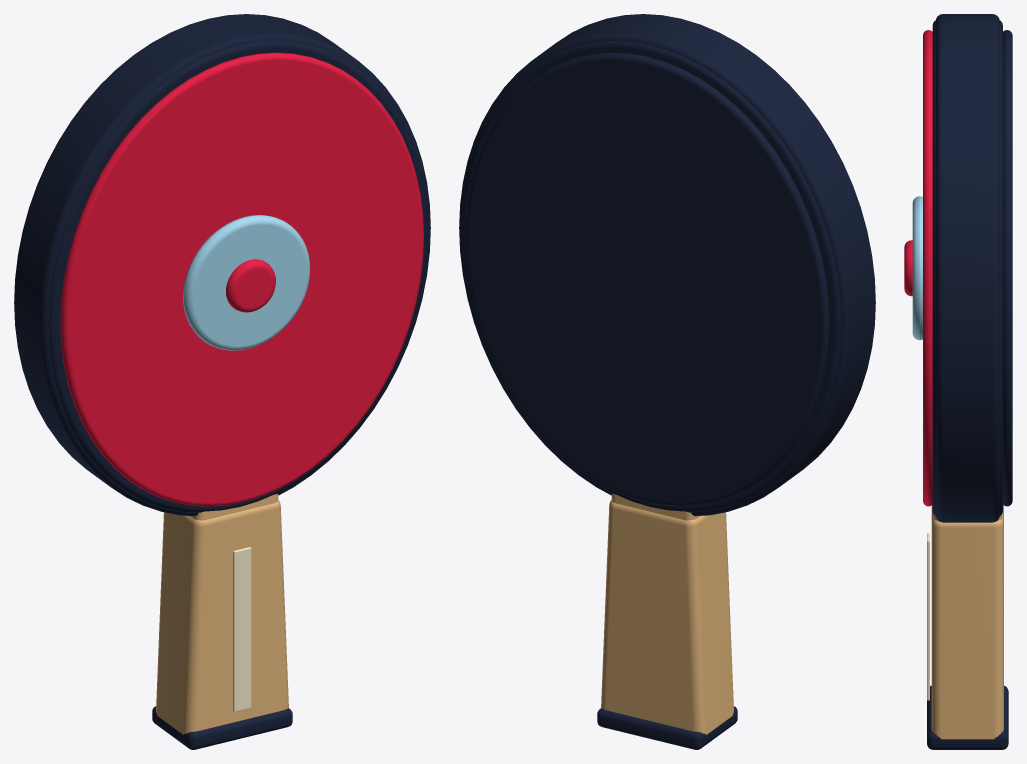
The model's file is Homing.fbx.
The picture shows the model from 3 angles, left to right: view 1: azimuth 30°, elevation 25°; view 2: azimuth 150°, elevation 25°; view 3: azimuth 270°, elevation 25°; orthographic projection.
Parts seen in each view (by area): view 1: FrontRubber, OuterRim, WoodHandle, TargetCircle, RimLip, HandleInlay, HandleButt, TargetCore; view 2: BackRubber, WoodHandle, OuterRim, RimLip, HandleButt; view 3: OuterRim, WoodHandle, BackRubber, FrontRubber, RimLip, TargetCircle, HandleButt, HandleInlay, TargetCore.
Boxes of the visible parts, left/top/right/bottom form: FrontRubber: left=60, top=52, right=423, bottom=506; OuterRim: left=14, top=14, right=430, bottom=516; WoodHandle: left=156, top=500, right=288, bottom=734; TargetCircle: left=183, top=215, right=310, bottom=350; RimLip: left=48, top=41, right=428, bottom=512; HandleInlay: left=233, top=547, right=251, bottom=711; HandleButt: left=152, top=706, right=292, bottom=749; TargetCore: left=226, top=259, right=275, bottom=312; BackRubber: left=466, top=52, right=829, bottom=506; WoodHandle: left=601, top=500, right=733, bottom=734; OuterRim: left=459, top=14, right=875, bottom=516; RimLip: left=461, top=41, right=841, bottom=512; HandleButt: left=597, top=706, right=737, bottom=749; OuterRim: left=936, top=14, right=999, bottom=522; WoodHandle: left=931, top=505, right=1003, bottom=739; BackRubber: left=1003, top=30, right=1012, bottom=506; FrontRubber: left=923, top=30, right=932, bottom=506; RimLip: left=932, top=20, right=1002, bottom=516; TargetCircle: left=912, top=196, right=922, bottom=340; HandleButt: left=927, top=685, right=1008, bottom=749; HandleInlay: left=927, top=533, right=929, bottom=700; TargetCore: left=904, top=240, right=912, bottom=296.
Size of the model in its own units: 56 by 95.65 by 13.52.
